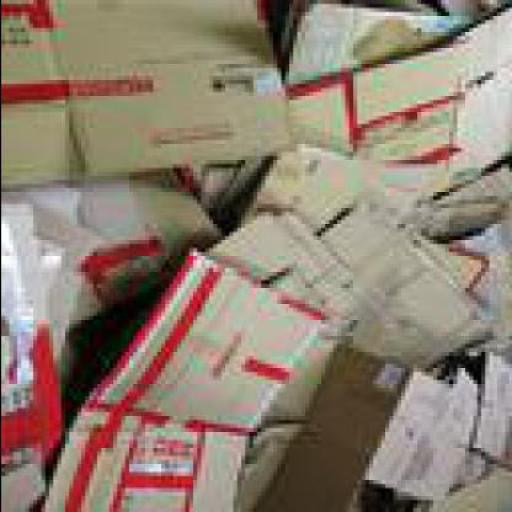cardboard: (4, 0, 510, 510), (48, 236, 336, 508), (192, 0, 505, 217), (284, 0, 511, 238), (4, 0, 296, 180), (196, 208, 368, 508), (4, 156, 232, 324), (328, 204, 492, 364), (260, 340, 412, 508), (4, 196, 68, 508), (248, 140, 428, 236), (372, 360, 480, 500), (448, 204, 511, 341), (436, 155, 510, 233), (468, 336, 510, 469), (425, 228, 496, 288), (456, 444, 492, 488)
